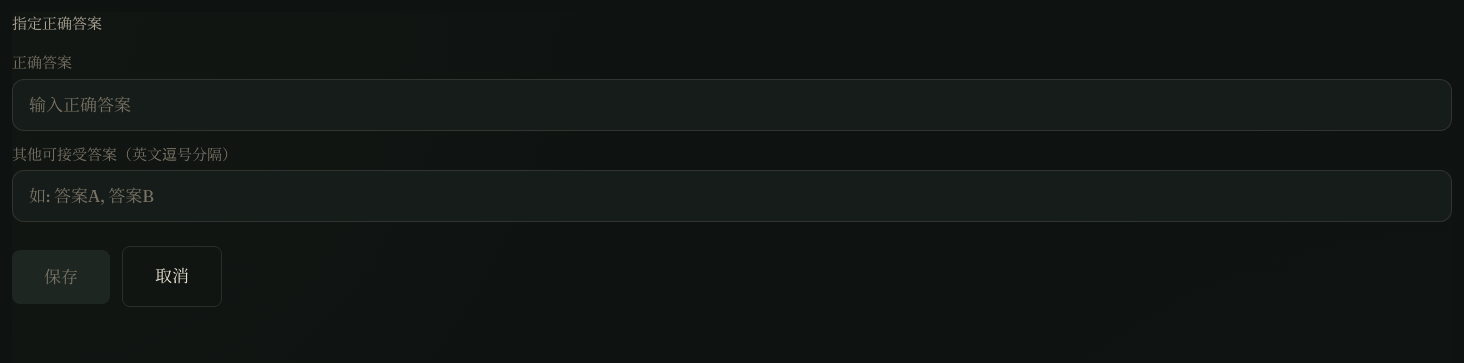
it: AnswerCorrector — FillBlankEditor › shows validation error when all answers are empty
Clear the field with id "corrector-primary". click: x=732, y=105
box: [12,78,1452,131]
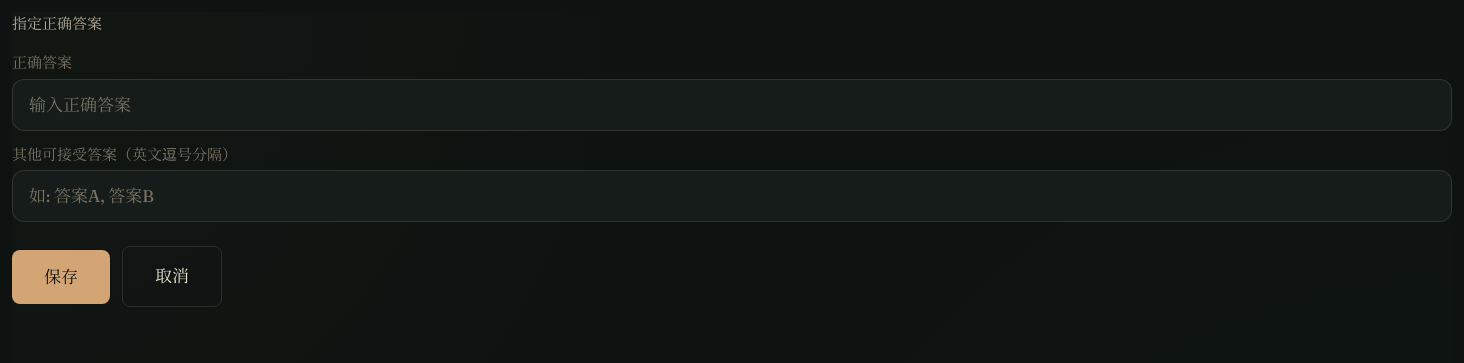
Click the button "保存". click: x=61, y=277
box: [12,250,110,304]
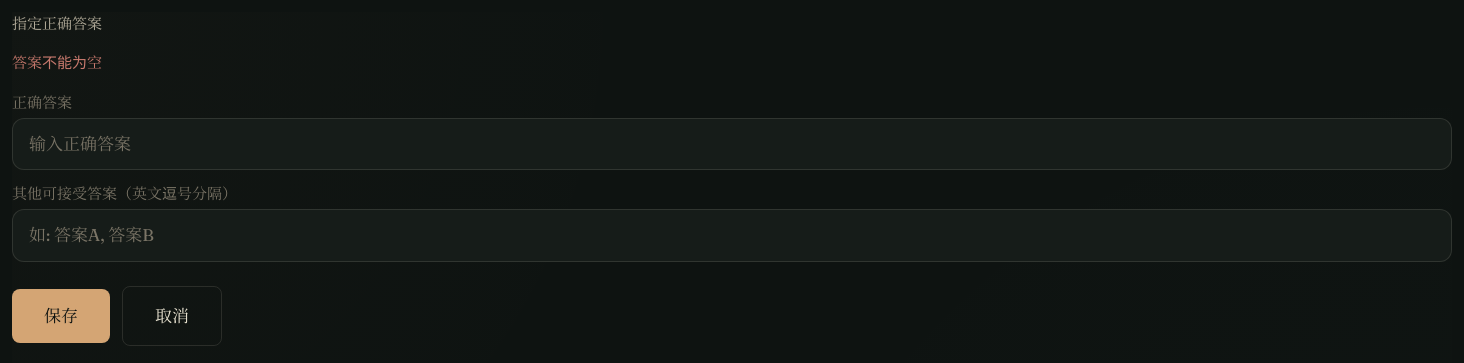
Now the text "答案不能为空" is shown, box [12,53,102,72]
